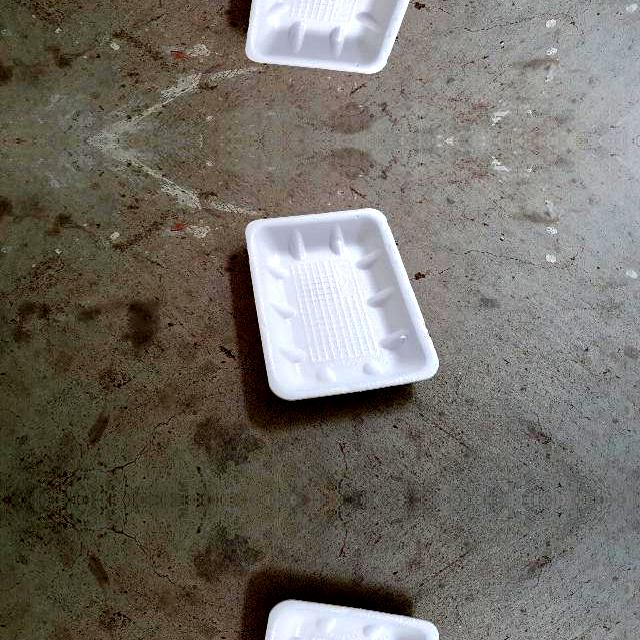Styrofoam: (244, 208, 438, 400), (246, 207, 439, 399), (244, 0, 438, 72), (246, 0, 410, 73), (244, 598, 438, 640)
